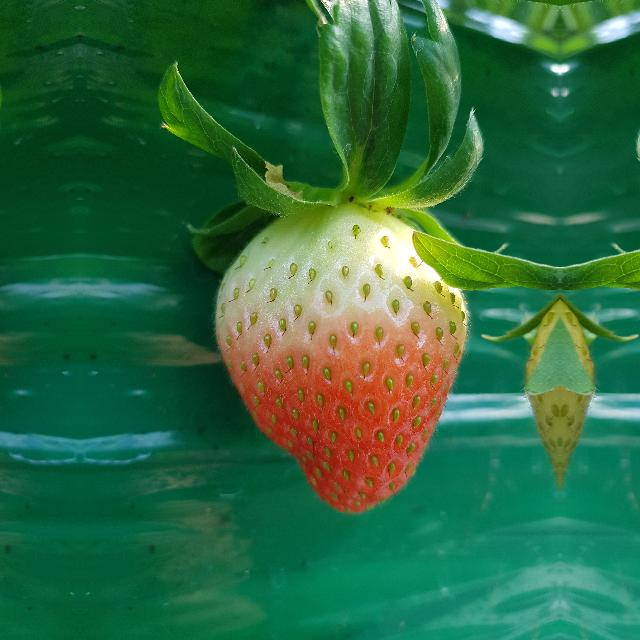Health_75: (212, 202, 468, 514)
